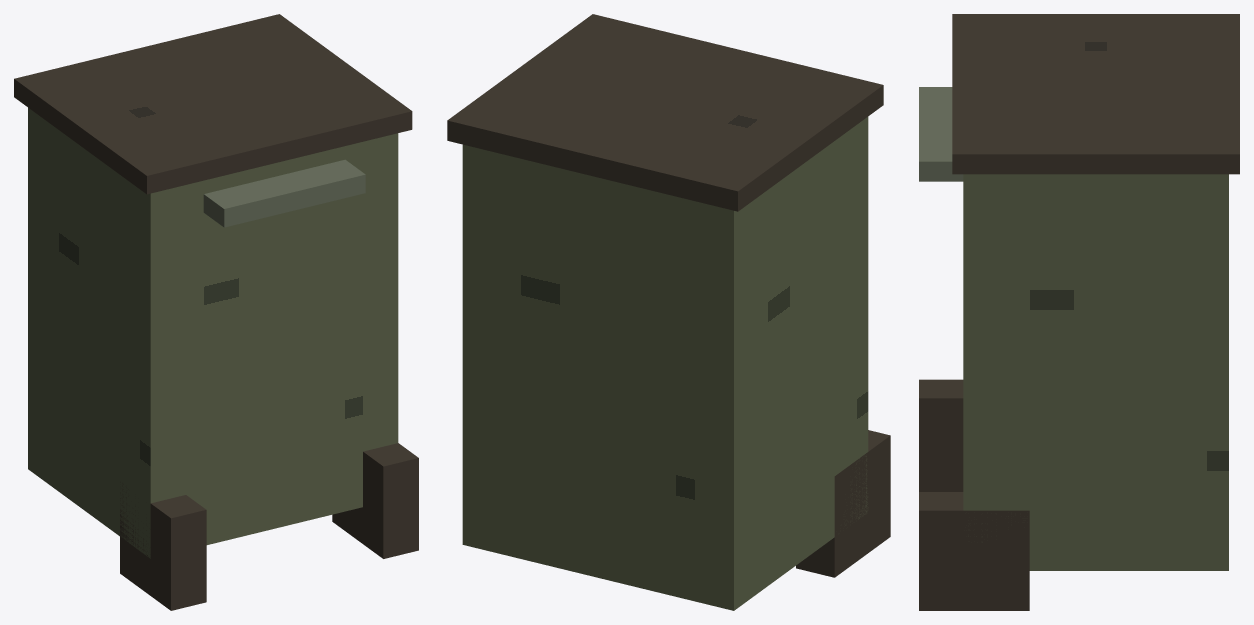
Rendered from wheelie_bin.gltf.
3 views of the same model, side by side, from view 1: azimuth 30°, elevation 25°; view 2: azimuth 150°, elevation 25°; view 3: azimuth 270°, elevation 25° (orthographic). The views are drawn at different scales.
Visible parts, largest first — view 1: bin, lid, wheel (×2), handle; view 2: bin, lid, wheel; view 3: bin, lid, wheel (×2), handle.
Part boxes in pixels (<box>): bin: <box>28,107,398,558</box>; lid: <box>14,14,412,194</box>; wheel (×2): <box>120,443,418,610</box>; handle: <box>203,159,365,227</box>; bin: <box>462,117,868,610</box>; lid: <box>447,14,883,211</box>; wheel: <box>796,430,890,577</box>; bin: <box>963,174,1228,570</box>; lid: <box>952,14,1239,174</box>; wheel (×2): <box>919,379,1029,610</box>; handle: <box>919,87,963,181</box>.
Bounding box in the file's own units: 0.9375 × 1.44 × 0.9062.
3 materials, 3 textured.
